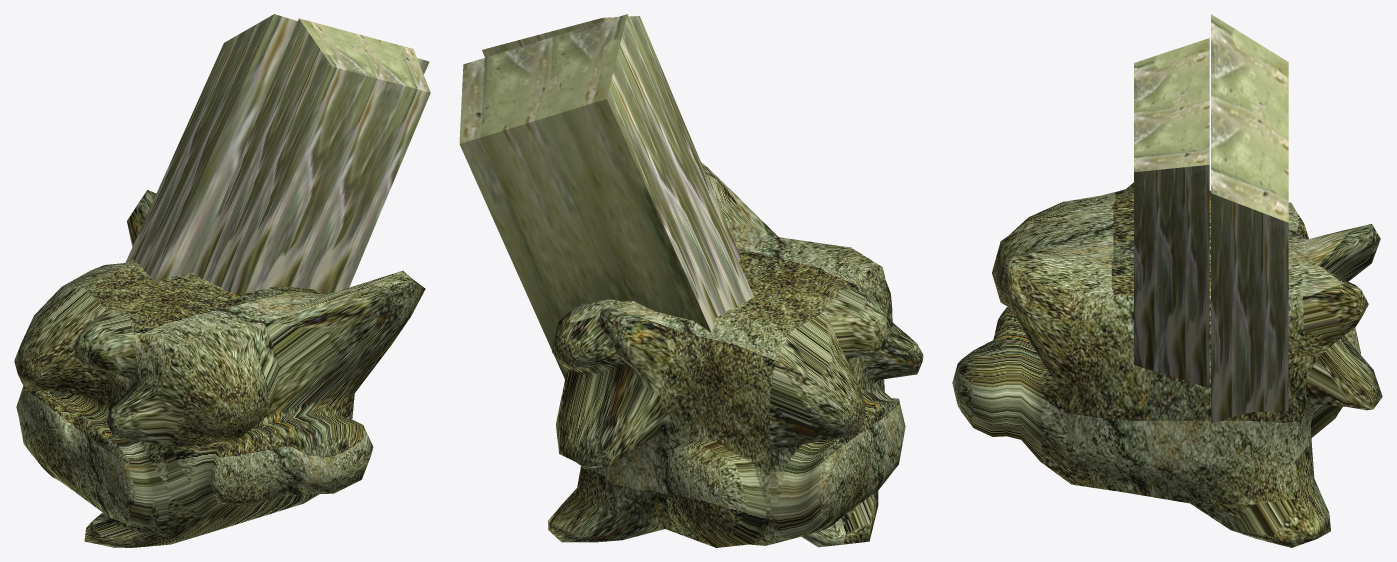
File: piroxeno.fbx
The picture shows the model from 3 angles, left to right: view 1: azimuth 30°, elevation 25°; view 2: azimuth 150°, elevation 25°; view 3: azimuth 270°, elevation 25°; orthographic projection. The views are drawn at different scales.
Parts seen in each view (by area): view 1: pCube1, pCube2, pCube3; view 2: pCube1, pCube3, pCube2; view 3: pCube1, pCube3, pCube2.
Boxes of the visible parts, box(x1,y1,x2,y2) form: pCube1: box(14, 190, 425, 547); pCube2: box(192, 18, 430, 295); pCube3: box(125, 14, 429, 281); pCube1: box(548, 162, 923, 547); pCube3: box(459, 14, 754, 378); pCube2: box(482, 16, 740, 260); pCube1: box(952, 182, 1382, 547); pCube3: box(1211, 14, 1288, 423); pCube2: box(1134, 38, 1209, 388).
Size of the model in its own units: 2.04 by 2.3 by 1.73.
3 materials, 3 textured.
